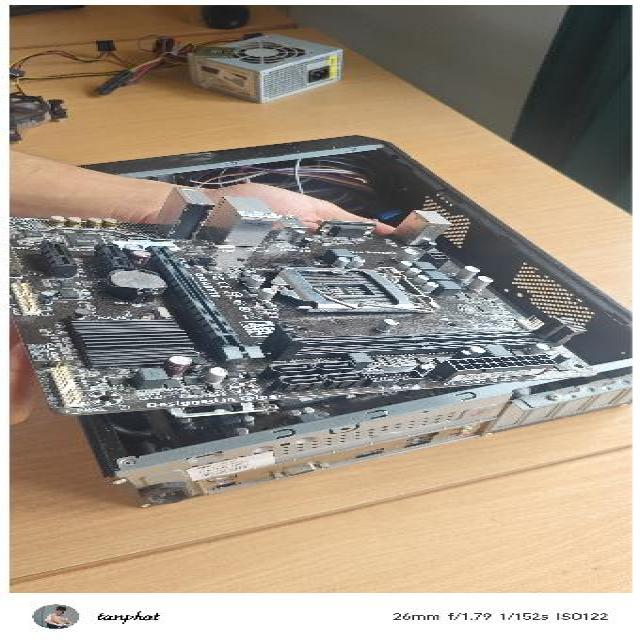CPU_Fan: (6, 79, 79, 159)
Mainboard: (0, 185, 627, 418)
PSU: (93, 22, 398, 122)
